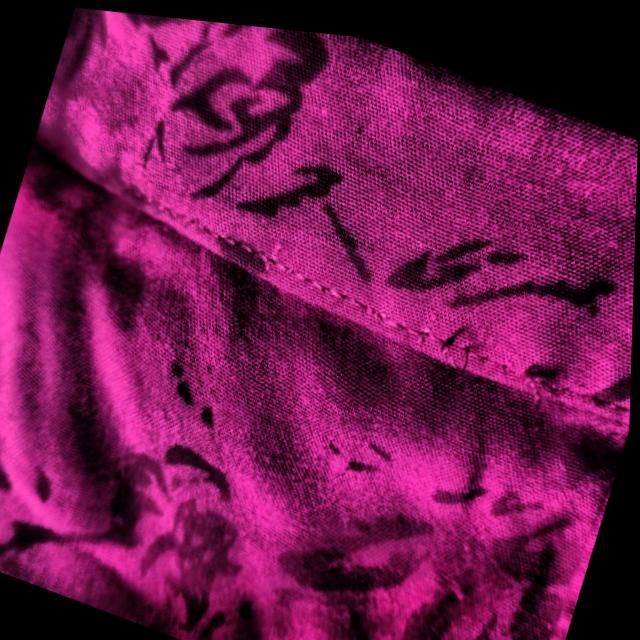Stitch: (390, 272, 501, 403), (505, 319, 585, 423)
